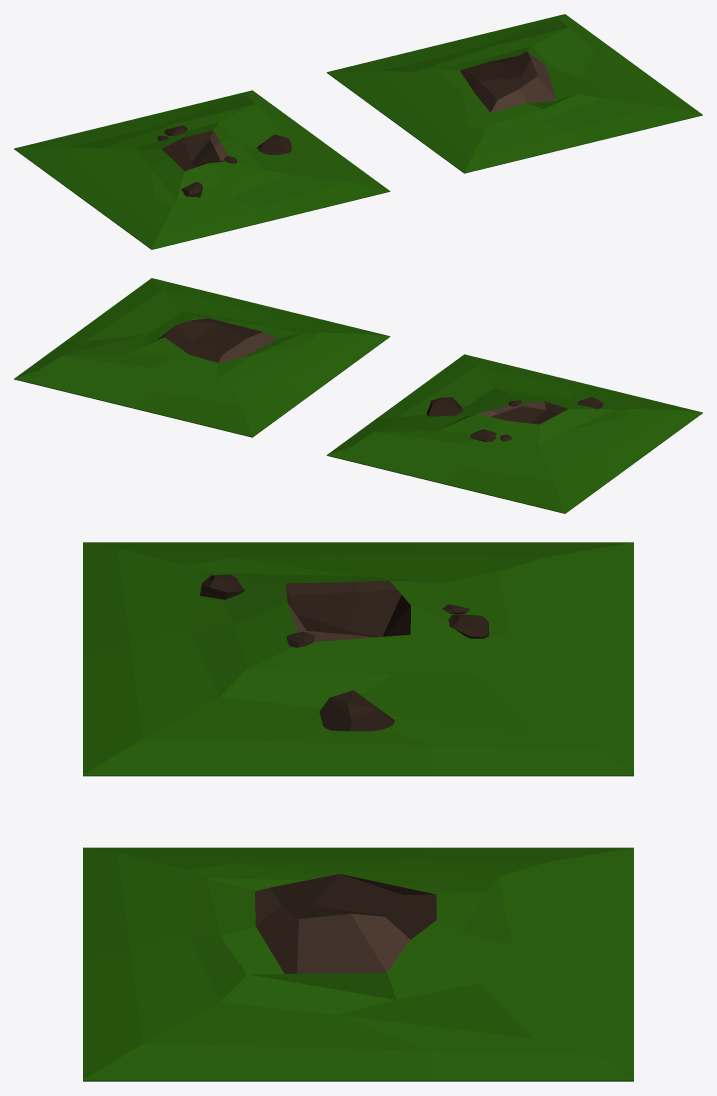
Rendered from hueco_pasto.fbx.
3 views of the same model, one above another, from view 1: azimuth 30°, elevation 25°; view 2: azimuth 150°, elevation 25°; view 3: azimuth 270°, elevation 25° (orthographic). The views are drawn at different scales.
Parts seen in each view (by area): view 1: Hueco vacio, hueco plantado; view 2: Hueco vacio, hueco plantado; view 3: Hueco vacio, hueco plantado.
Part boxes in pixels (x1=…): Hueco vacio: x1=14, y1=90, x2=390, y2=249; hueco plantado: x1=326, y1=14, x2=702, y2=173; Hueco vacio: x1=326, y1=354, x2=702, y2=513; hueco plantado: x1=14, y1=278, x2=390, y2=437; Hueco vacio: x1=83, y1=542, x2=633, y2=776; hueco plantado: x1=83, y1=847, x2=633, y2=1081.
Size of the model in its own units: 225 by 13.55 by 97.41.
